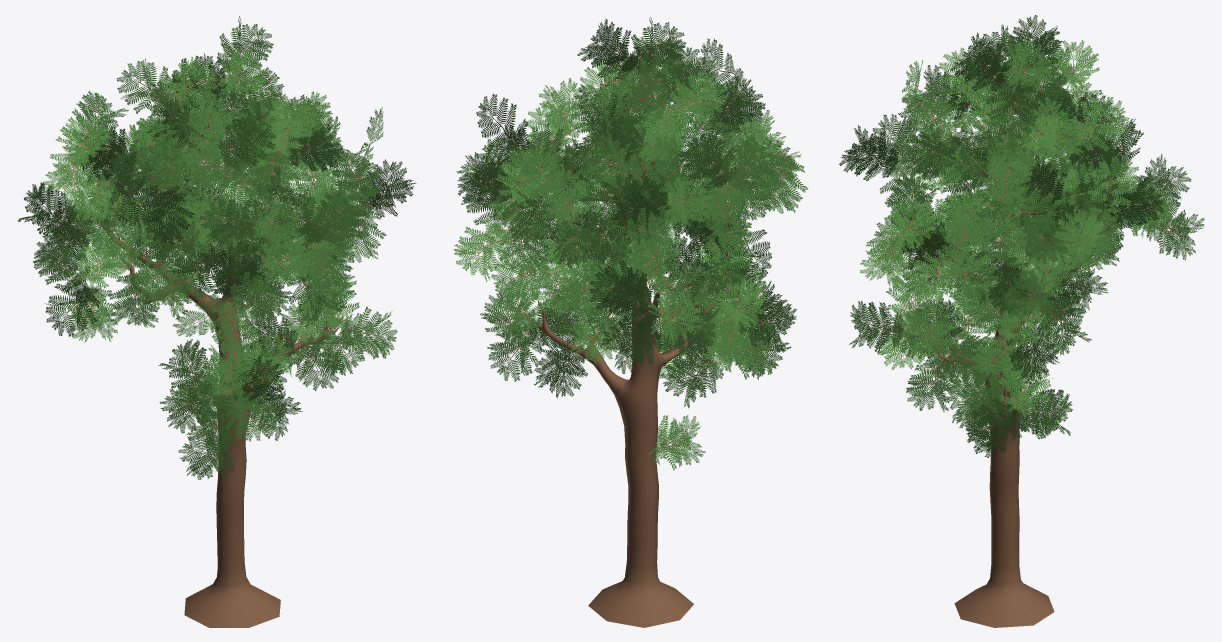
The model's file is pino colombiano.fbx.
The picture shows the model from 3 angles, left to right: view 1: azimuth 30°, elevation 25°; view 2: azimuth 150°, elevation 25°; view 3: azimuth 270°, elevation 25°; orthographic projection.
Parts seen in each view (by area): view 1: Hojas; view 2: Hojas; view 3: Hojas.
Part boxes in pixels (x1=…): Hojas: x1=17, y1=16, x2=416, y2=627; Hojas: x1=453, y1=17, x2=807, y2=627; Hojas: x1=839, y1=15, x2=1204, y2=627.
Size of the model in its own units: 1070 by 1774 by 1022.
